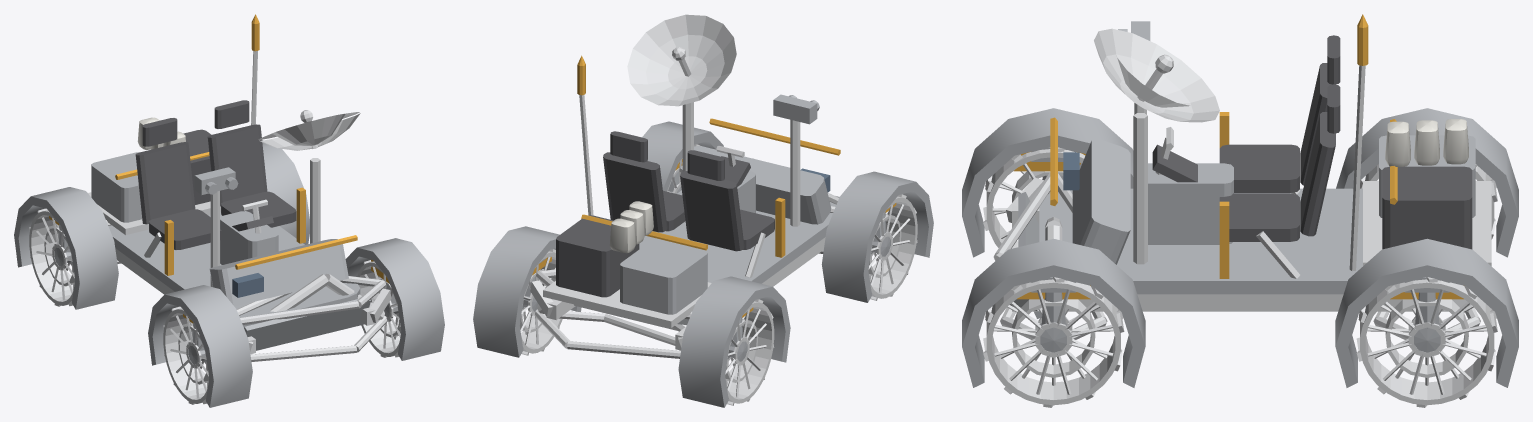
File: open-rover-unpressuris-0da93181.glb
The picture shows the model from 3 angles, left to right: view 1: azimuth 30°, elevation 25°; view 2: azimuth 150°, elevation 25°; view 3: azimuth 270°, elevation 25°; orthographic projection. The views are drawn at different scales.
Visible parts, largest first — view 1: open-rover-unpressurised, wheel-front-left, wheel-rear-left, antenna-dish, wheel-front-right, camera; view 2: open-rover-unpressurised, antenna-dish, wheel-rear-left, wheel-front-left, wheel-rear-right, camera; view 3: open-rover-unpressurised, wheel-front-right (×2), wheel-rear-right (×2), antenna-dish, wheel-front-left, steer-rear-right, steer-front-right, wheel-rear-left.
Boxes of the visible parts, x1,y1,x2,y2 form: open-rover-unpressurised: (14, 14, 444, 407); wheel-front-left: (163, 306, 209, 404); wheel-rear-left: (29, 208, 74, 306); antenna-dish: (258, 110, 360, 150); wheel-front-right: (357, 260, 401, 357); camera: (194, 167, 238, 194); open-rover-unpressurised: (473, 55, 933, 407); antenna-dish: (627, 14, 736, 106); wheel-rear-left: (725, 299, 774, 405); wheel-front-left: (868, 194, 917, 300); wheel-rear-right: (519, 249, 562, 355); camera: (773, 94, 819, 124); open-rover-unpressurised: (962, 14, 1518, 387); wheel-front-right (×2): (983, 277, 1124, 407); wheel-rear-right (×2): (1356, 277, 1497, 407); antenna-dish: (1094, 28, 1219, 122); wheel-front-left: (983, 147, 1085, 248); steer-rear-right: (1404, 277, 1449, 328); steer-front-right: (1031, 277, 1076, 328); wheel-rear-left: (1360, 164, 1497, 239).
Size of the model in its own units: 2.31 by 2.52 by 3.46.
